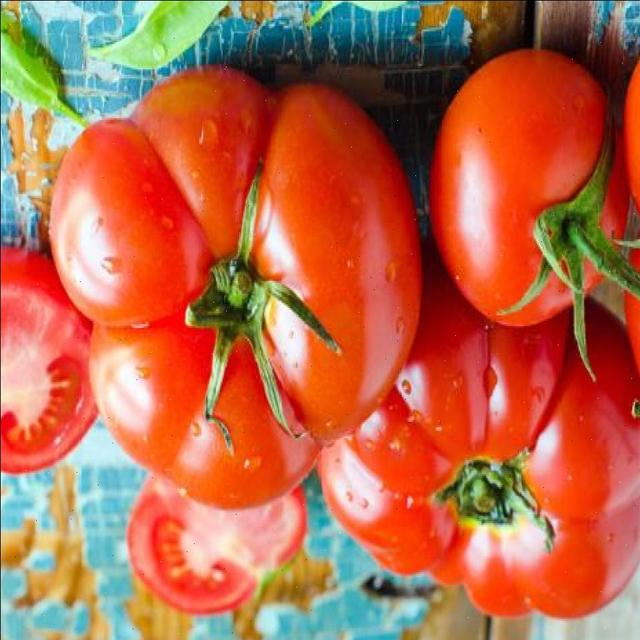Healthy Fruit: (137, 132, 347, 319)
